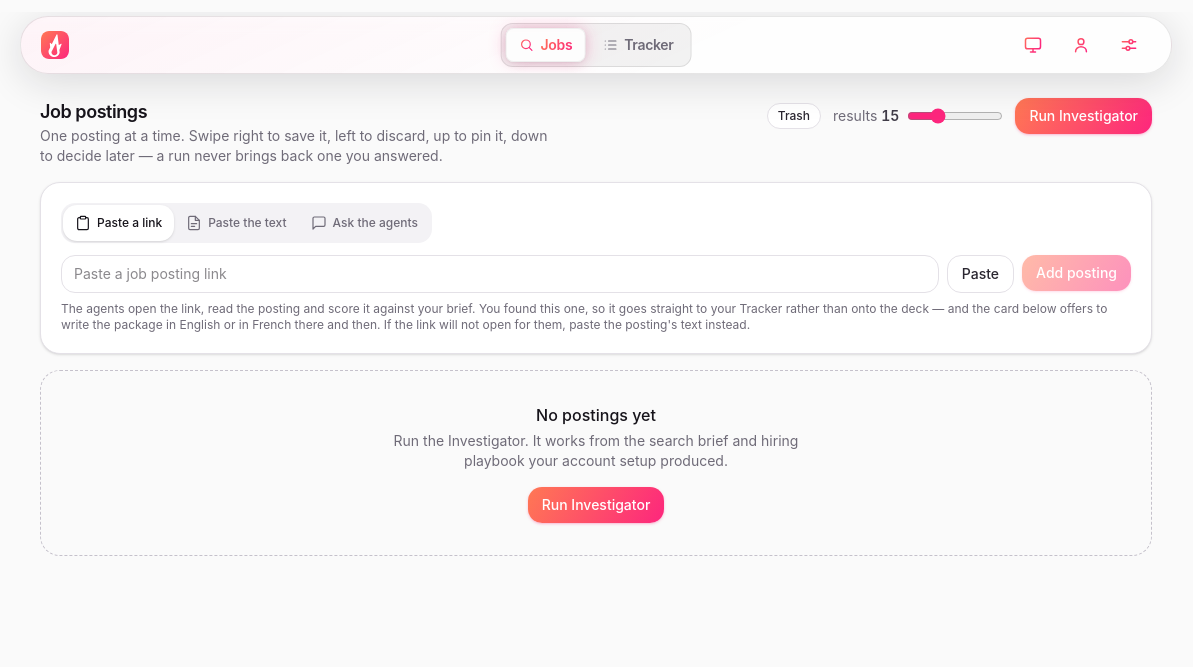
Test case: asking the agents for a posting › switches between the paste field and the chat
Expected: the field with placeholder "Paste a job posting link" is shown, [61,255,939,293]
Step 1. Click the tab "Ask the agents" → click(364, 223), box [299,205,430,241]
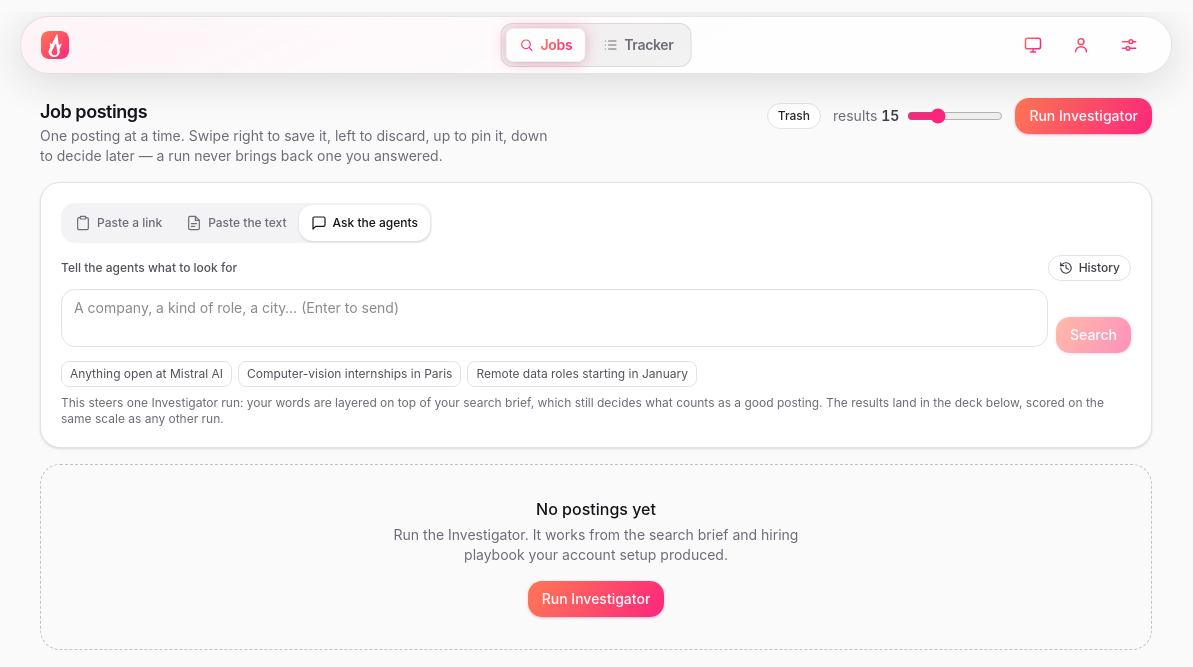
Expected: the field with placeholder "Paste a job posting link" is not shown
Step 2. Click the tab "Paste a link" → click(119, 223), box [63,205,174,241]
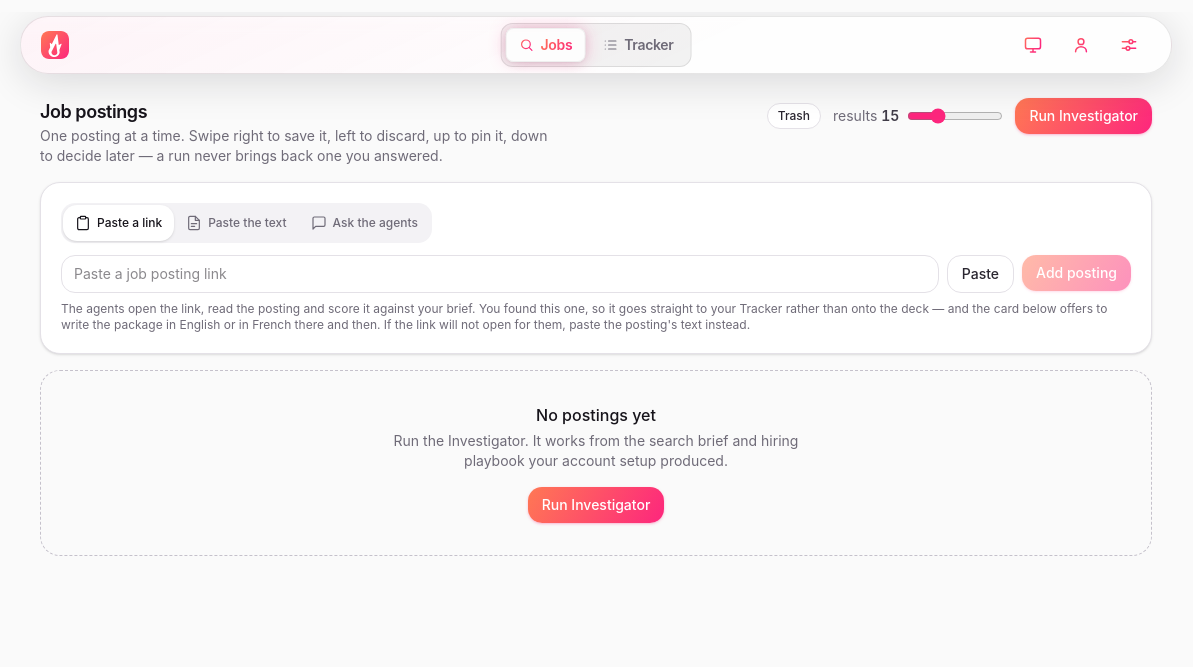
Expected: the field with placeholder "Paste a job posting link" is shown, [61,255,939,293]
